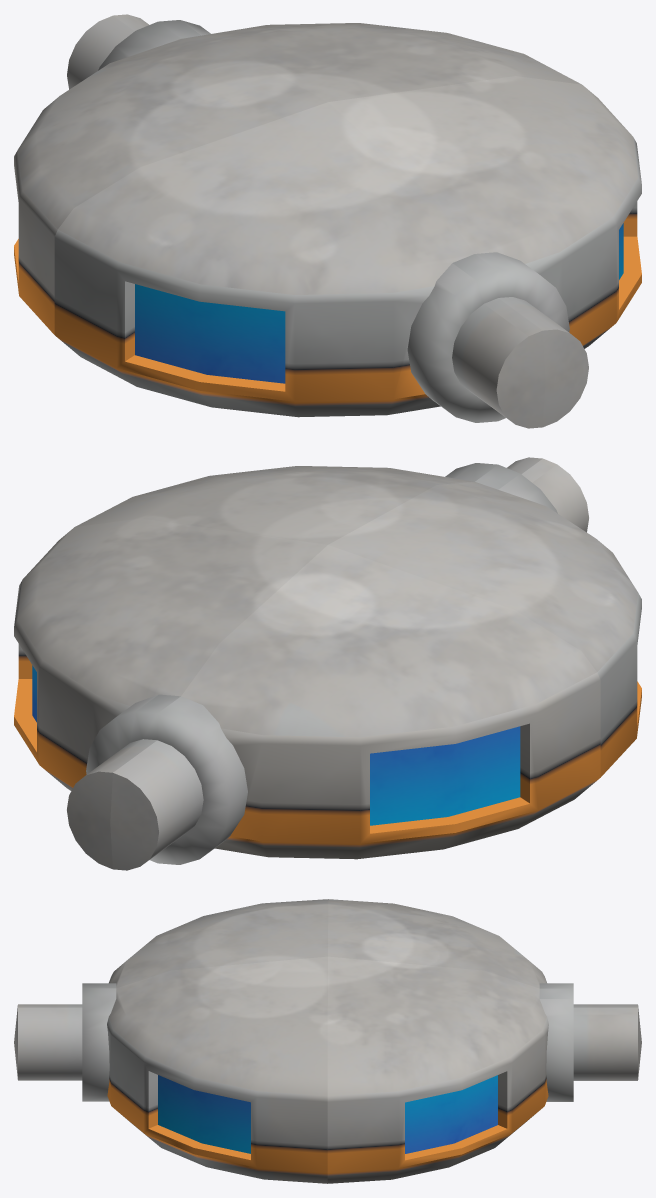
Rendered from Base_Pod_2.fbx.
3 views of the same model, one above another, from view 1: azimuth 30°, elevation 25°; view 2: azimuth 150°, elevation 25°; view 3: azimuth 270°, elevation 25° (orthographic). The views are drawn at different scales.
Parts seen in each view (by area): view 1: Pod_2; view 2: Pod_2; view 3: Pod_2.
Boxes of the visible parts, box(x1,y1,x2,y2) form: Pod_2: box(14, 14, 641, 428); Pod_2: box(14, 457, 641, 870); Pod_2: box(14, 899, 641, 1183).
Bounding box in the file's own units: 51.99 × 17.7 × 71.79.
